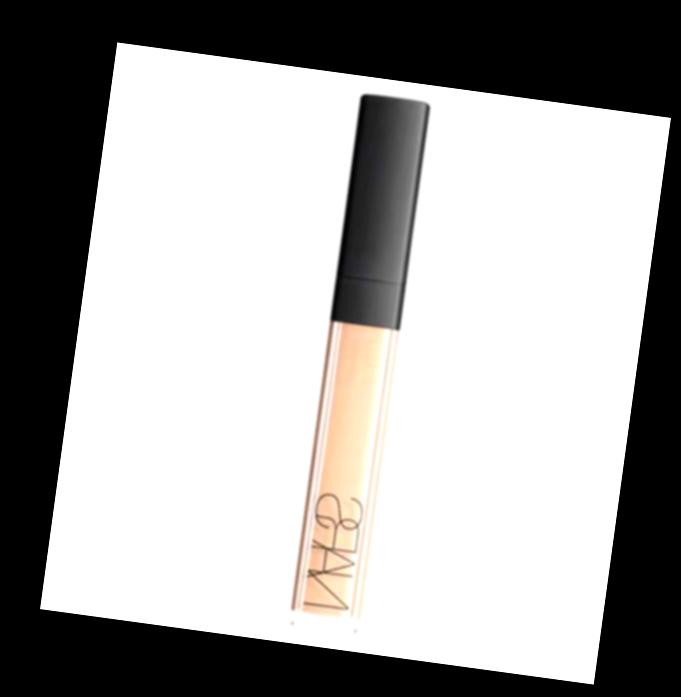cosmetic: (284, 93, 430, 638)
